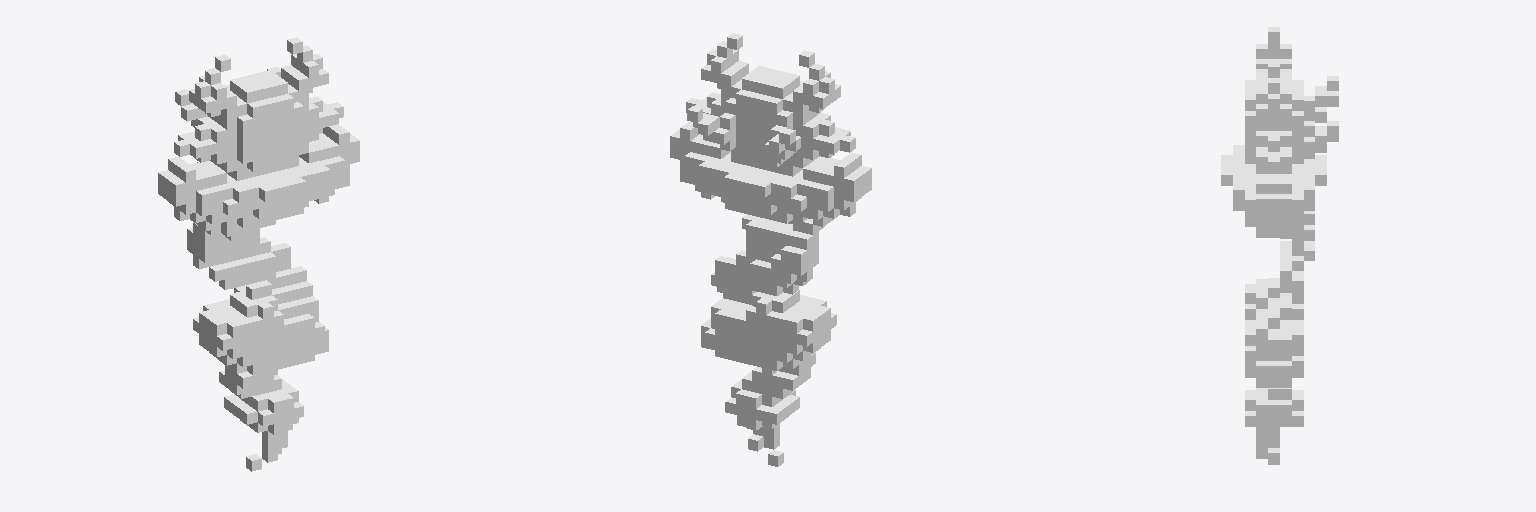
File: 3DSnowDevil.obj
3 views of the same model, side by side, from view 1: azimuth 30°, elevation 25°; view 2: azimuth 150°, elevation 25°; view 3: azimuth 270°, elevation 25° (orthographic).
Visible parts, largest first — view 1: SnowDevil-1; view 2: SnowDevil-1; view 3: SnowDevil-1.
Boxes of the visible parts, <box> form: SnowDevil-1: <box>158,37,359,471</box>; SnowDevil-1: <box>670,33,871,466</box>; SnowDevil-1: <box>1221,27,1338,464</box>.
Size of the model in its own units: 1.8 by 3.9 by 1.